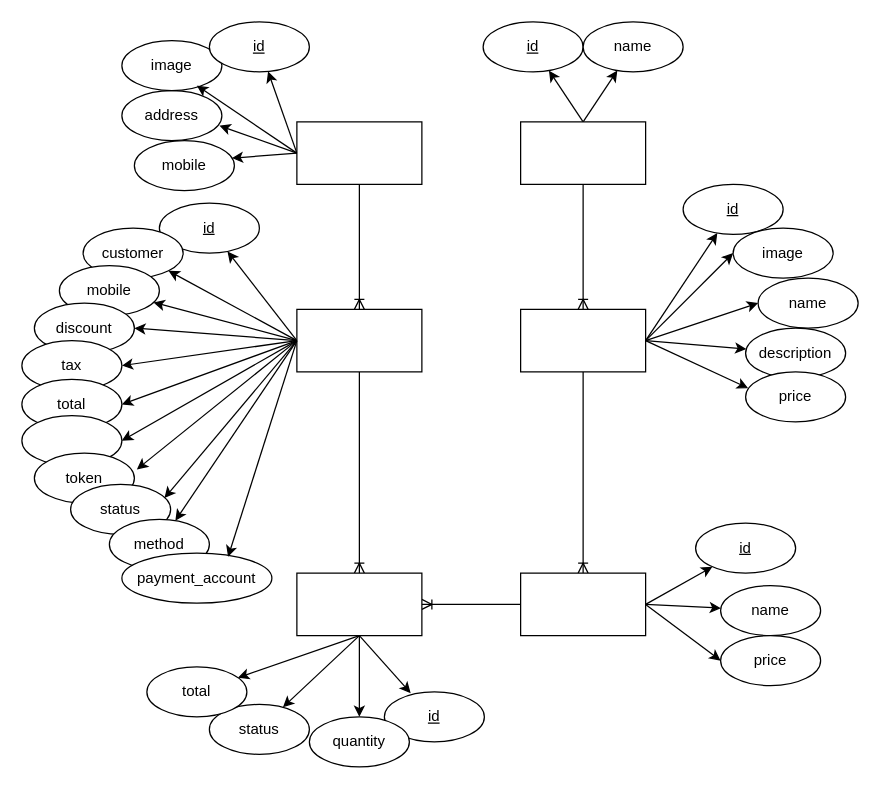
The diagram is 880 pixels wide and 789 high, and some of its shapes have lost their labels. The centre of each missing label's shape, as x and y in pixels:
"Category" belongs at pixel 582 152.
"date" belongs at pixel 71 440.
"Invoice" belongs at pixel 359 340.
"InvoiceItem" belongs at pixel 359 604.
"Item" belongs at pixel 582 340.
"Staff" belongs at pixel 359 152.
"Variation" belongs at pixel 582 604.
